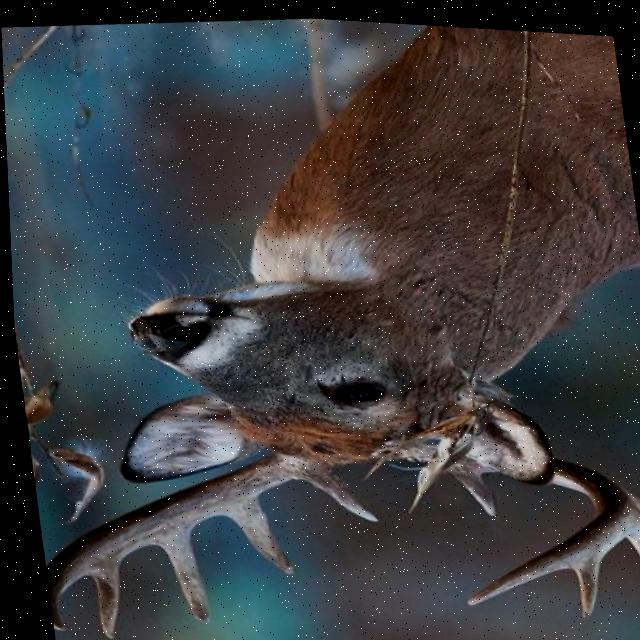L-G1: (445, 458, 491, 510)
L-G3: (622, 512, 640, 566)
L-G4: (570, 562, 592, 610)
R-F: (40, 451, 315, 630)
R-G1: (296, 461, 374, 518)
R-G2: (220, 491, 289, 571)
R-G3: (153, 529, 204, 620)
R-G4: (83, 560, 114, 638)
